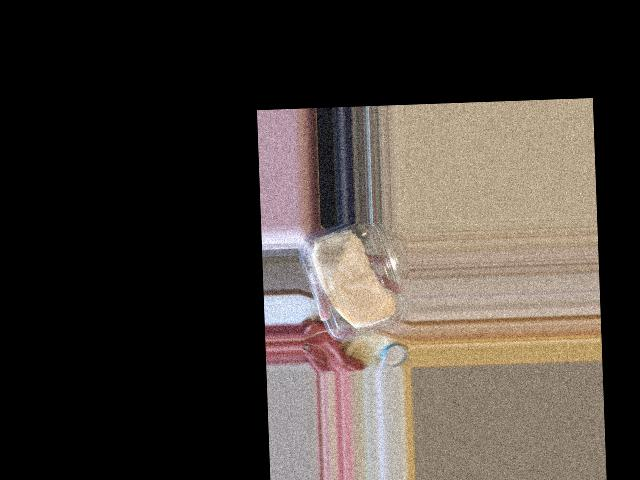cheese: (304, 220, 406, 344)
